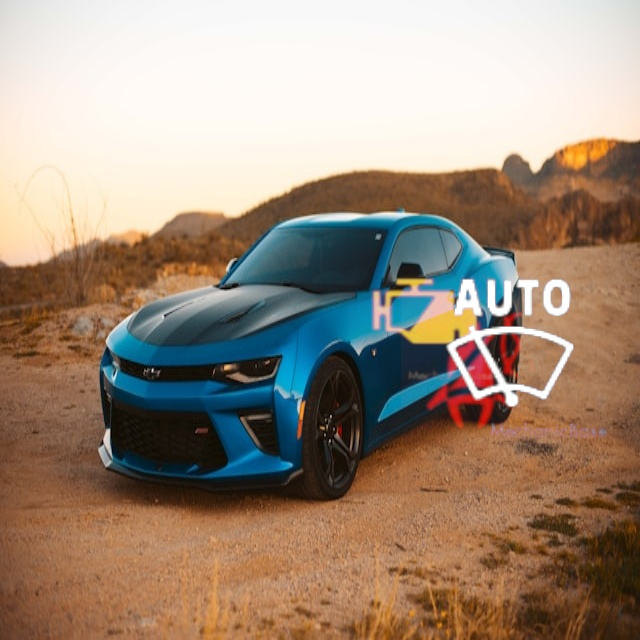symbol: (409, 242, 615, 448), (401, 289, 566, 454), (348, 236, 500, 388)
